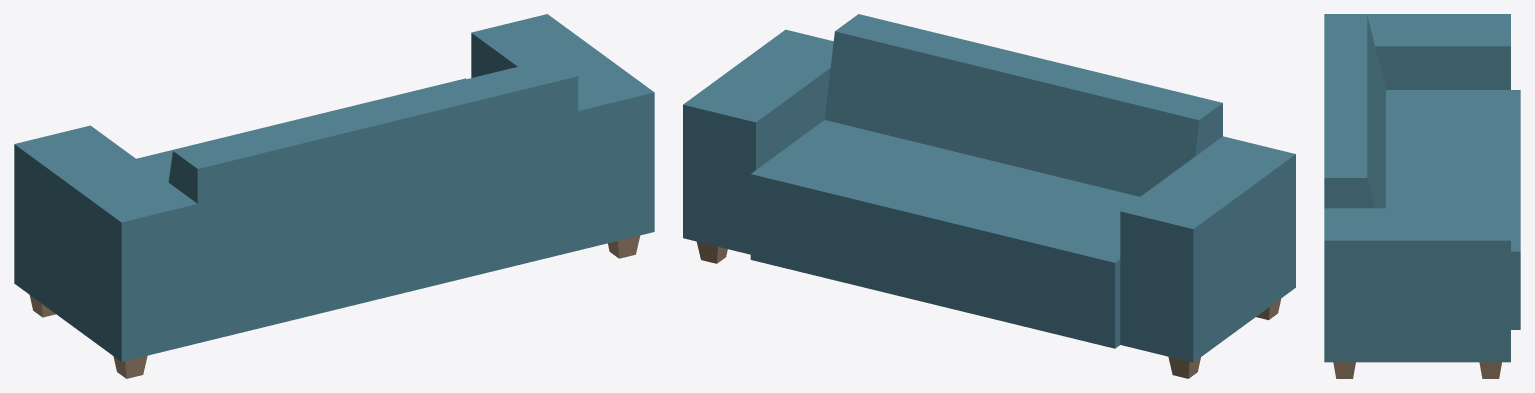
Rendered from Furniture_Couch_Double.fbx.
3 renders of one model, left to right at view 1: azimuth 30°, elevation 25°; view 2: azimuth 150°, elevation 25°; view 3: azimuth 270°, elevation 25°, orthographic. The views are drawn at different scales.
Parts seen in each view (by area): view 1: loungeDesignSofa; view 2: loungeDesignSofa; view 3: loungeDesignSofa.
Part boxes in pixels (left/top/right/bottom): loungeDesignSofa: left=14, top=14, right=654, bottom=378; loungeDesignSofa: left=683, top=14, right=1295, bottom=378; loungeDesignSofa: left=1324, top=14, right=1520, bottom=378.
Size of the model in its own units: 321 by 115 by 117.
